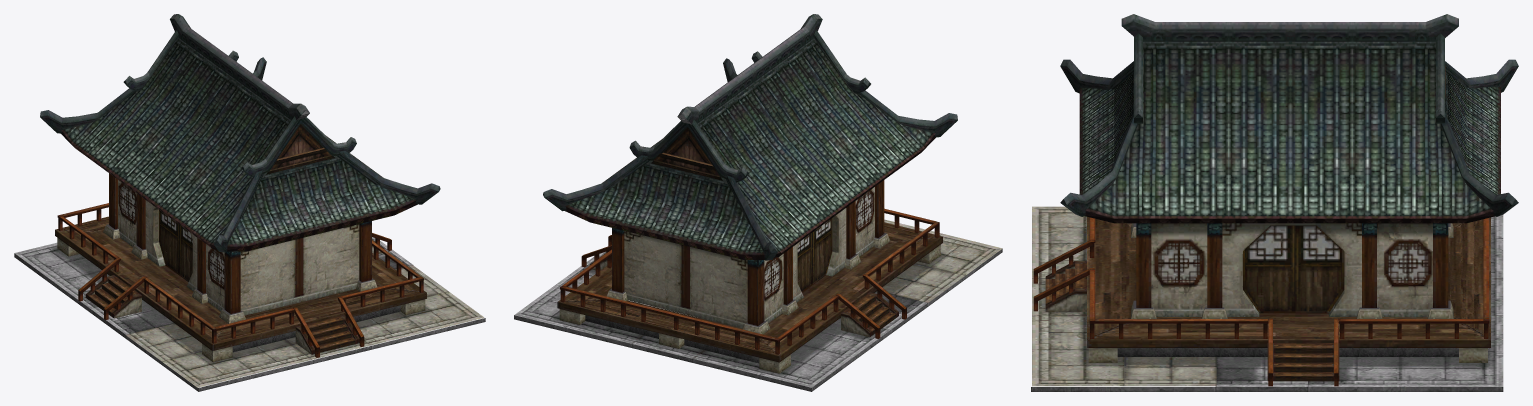
The model's file is c1-008-house5.glb.
The picture shows the model from 3 angles, left to right: view 1: azimuth 30°, elevation 25°; view 2: azimuth 150°, elevation 25°; view 3: azimuth 270°, elevation 25°; orthographic projection. The views are drawn at different scales.
Parts seen in each view (by area): view 1: b1-008-house5; view 2: b1-008-house5; view 3: b1-008-house5.
Part boxes in pixels (x1=…): b1-008-house5: x1=14, y1=14, x2=485, y2=391; b1-008-house5: x1=514, y1=14, x2=1002, y2=391; b1-008-house5: x1=1031, y1=14, x2=1518, y2=391.
Size of the model in its own units: 14.76 by 11 by 16.91.
Materials: 3 (3 with a texture image).
